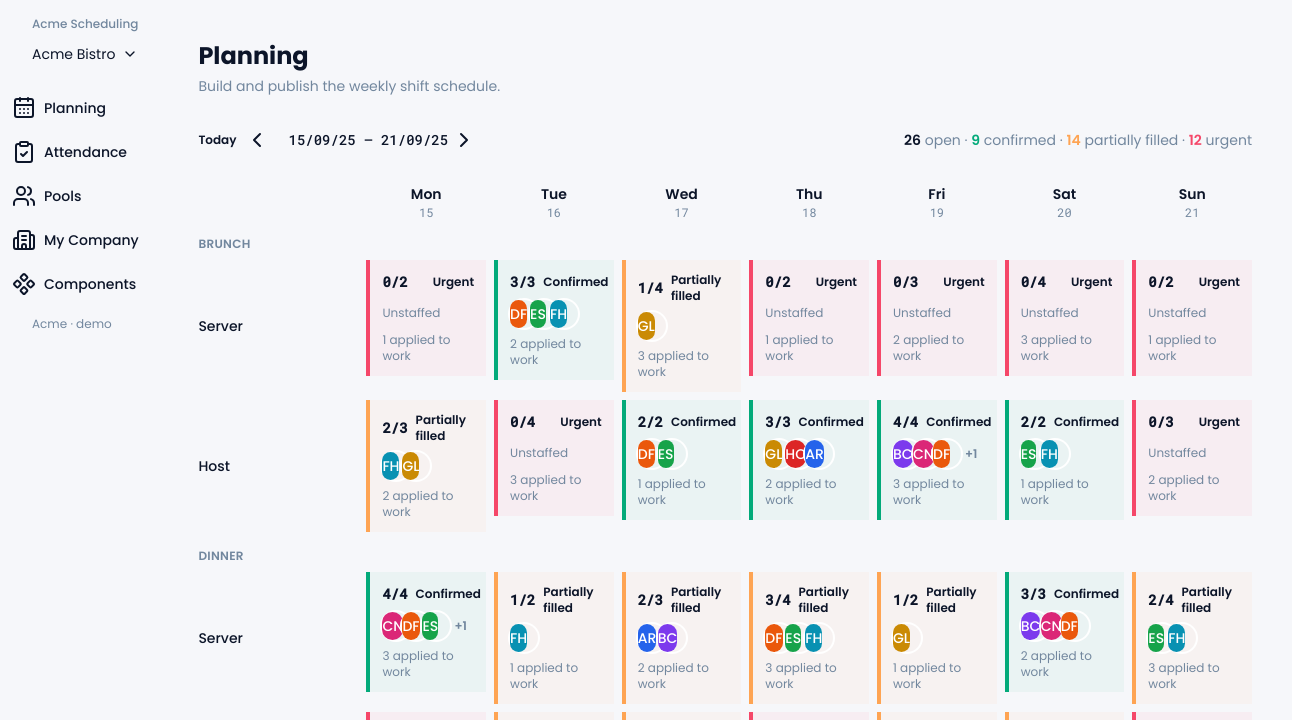
Test: App shell › switches the visible view when a nav item is clicked
Expected: the heading "Planning" is shown, x1=198 y1=39 x2=309 y2=72
Step 1. Click the link "Attendance" → coordinates (70, 152), box x1=12 y1=140 x2=127 y2=164
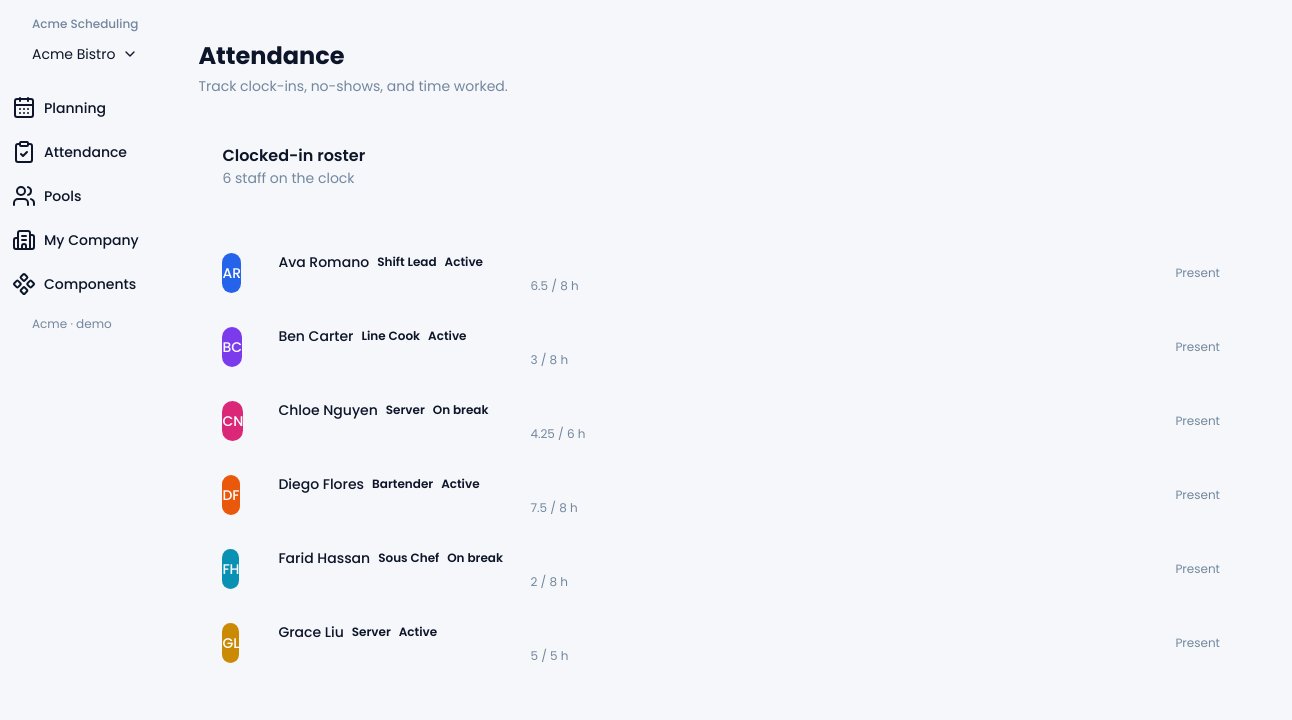
Now the heading "Attendance" is shown, box x1=198 y1=39 x2=345 y2=72
